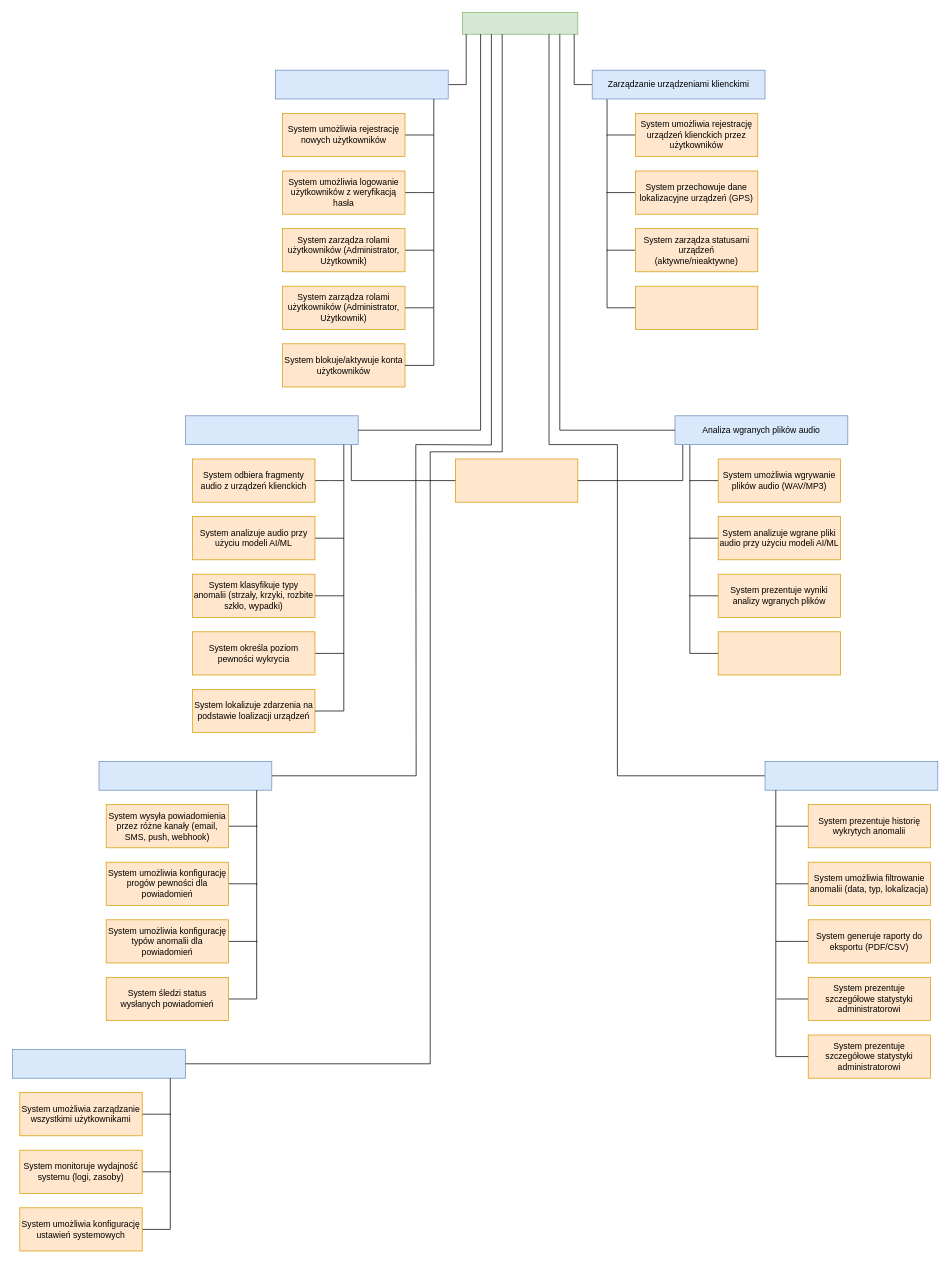
This 950x1264 diagram has some shape labels left out. The centre of each missing label's shape, as x and y in pixels:
"Analiza audio w czasie rzeczywistym" goes at [271,430].
"Funkcje administracyjne" goes at [98,1063].
"Przeglądanie i raportowanie" goes at [851,775].
"System powiadomień" goes at [185,775].
"System przechowuje metadane audio (bez samych plików)" goes at [779,653].
"System przypisuje klucze API do urządzeń" goes at [696,307].
"System zapisuje wynik analizy tylko jeli bylo wykryto, że to była anomalia" goes at [516,480].
"Wymagania funkcyjne" goes at [520,23].
"Zarządzanie użytkownikami i uwierzytelnianie" goes at [361,84].
